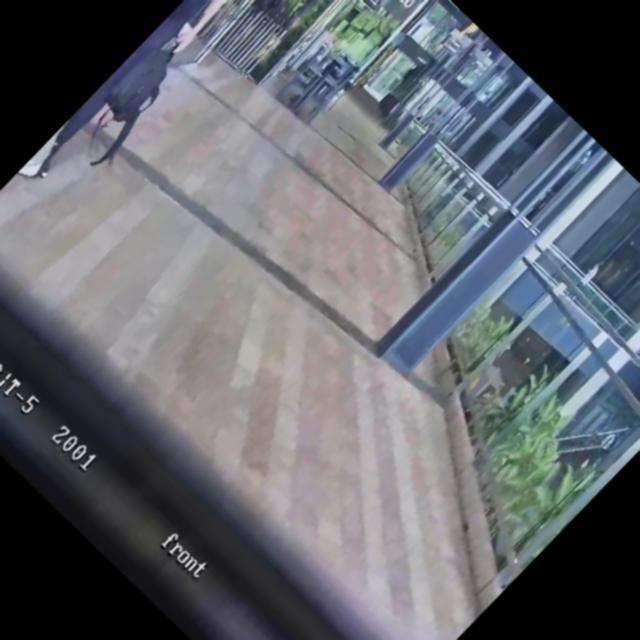person: (18, 0, 297, 195)
